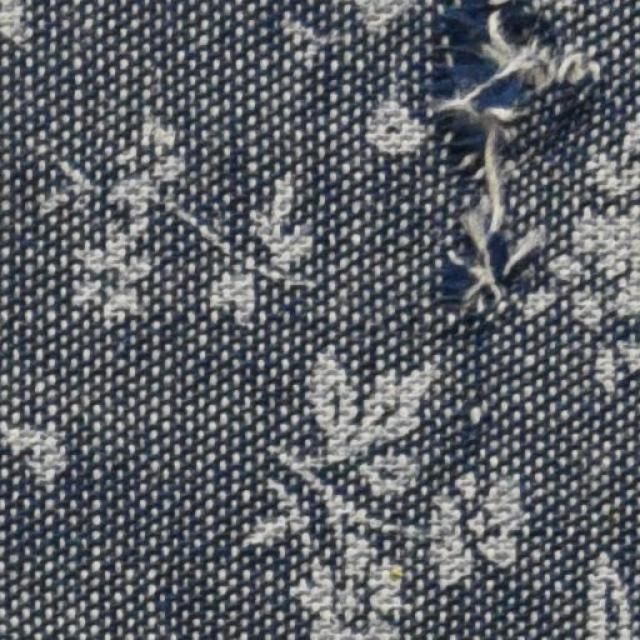Snag: (417, 1, 595, 335)
